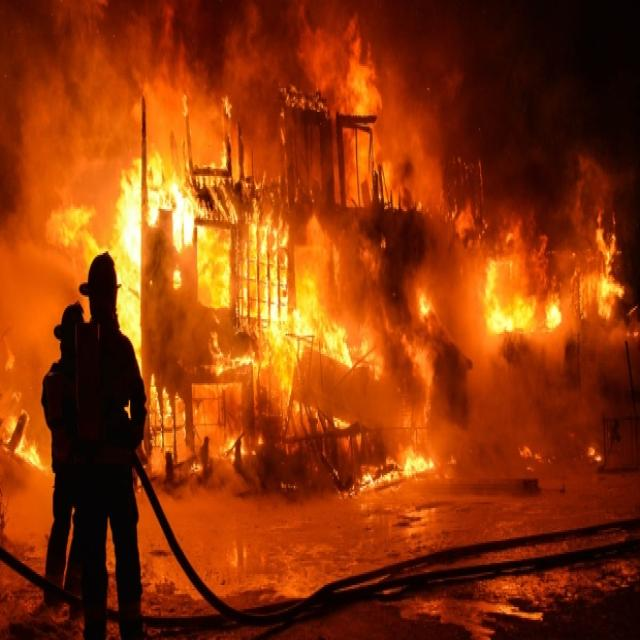Fire: (75, 109, 400, 509)
